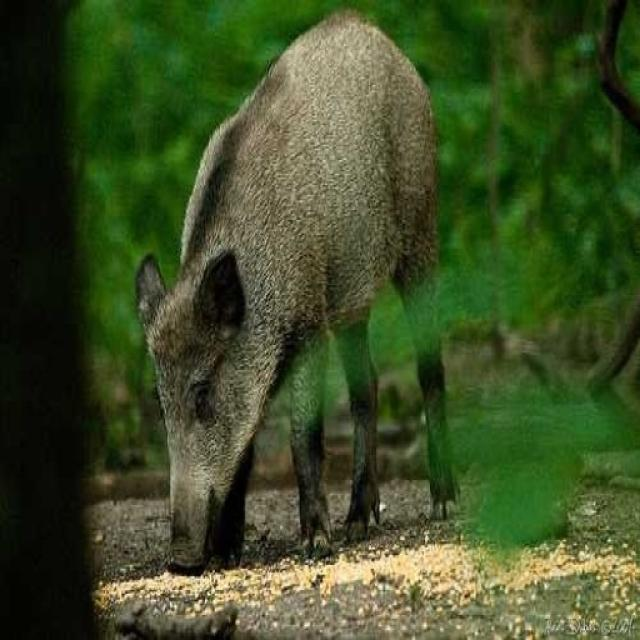pig: (115, 0, 475, 611)
